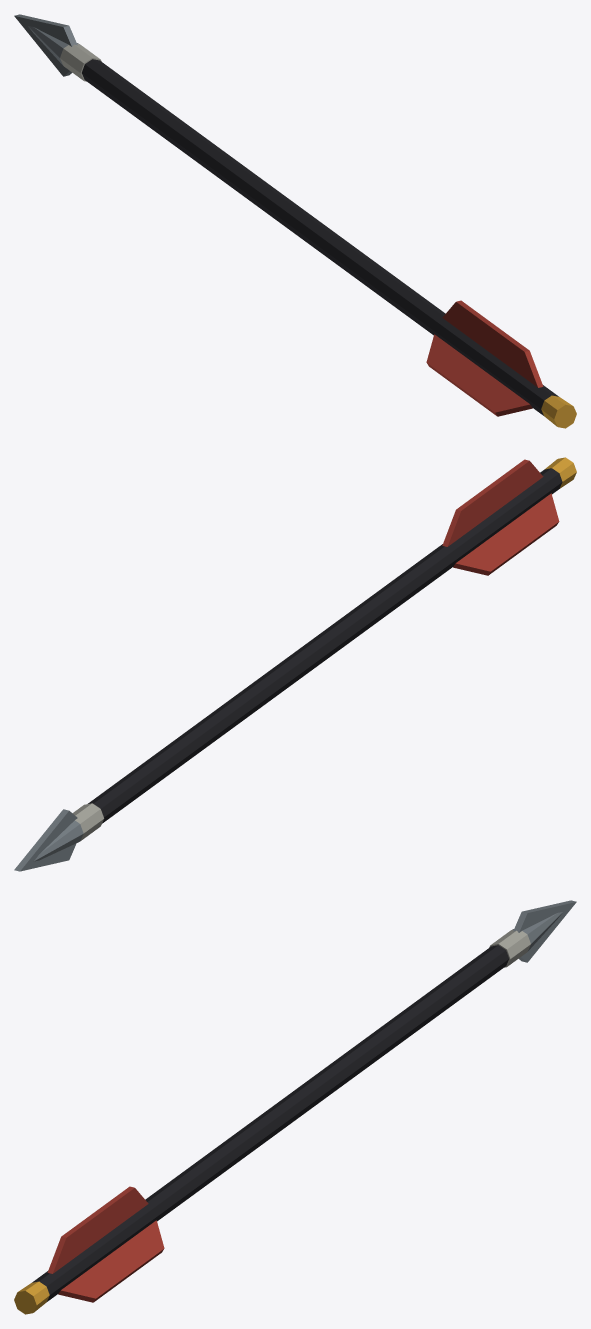
The model's file is crossbow_bolt.glb.
3 views of the same model, one above another, from view 1: azimuth 30°, elevation 25°; view 2: azimuth 150°, elevation 25°; view 3: azimuth 330°, elevation 25° (orthographic).
Visible parts, largest first — view 1: crossbow_bolt; view 2: crossbow_bolt; view 3: crossbow_bolt.
Boxes of the visible parts, x1,y1,x2,y2 form: crossbow_bolt: (14, 14, 576, 428); crossbow_bolt: (14, 457, 576, 871); crossbow_bolt: (14, 900, 576, 1314).
Size of the model in its own units: 0.0271 by 0.025 by 0.4.
1 material, 1 textured.
